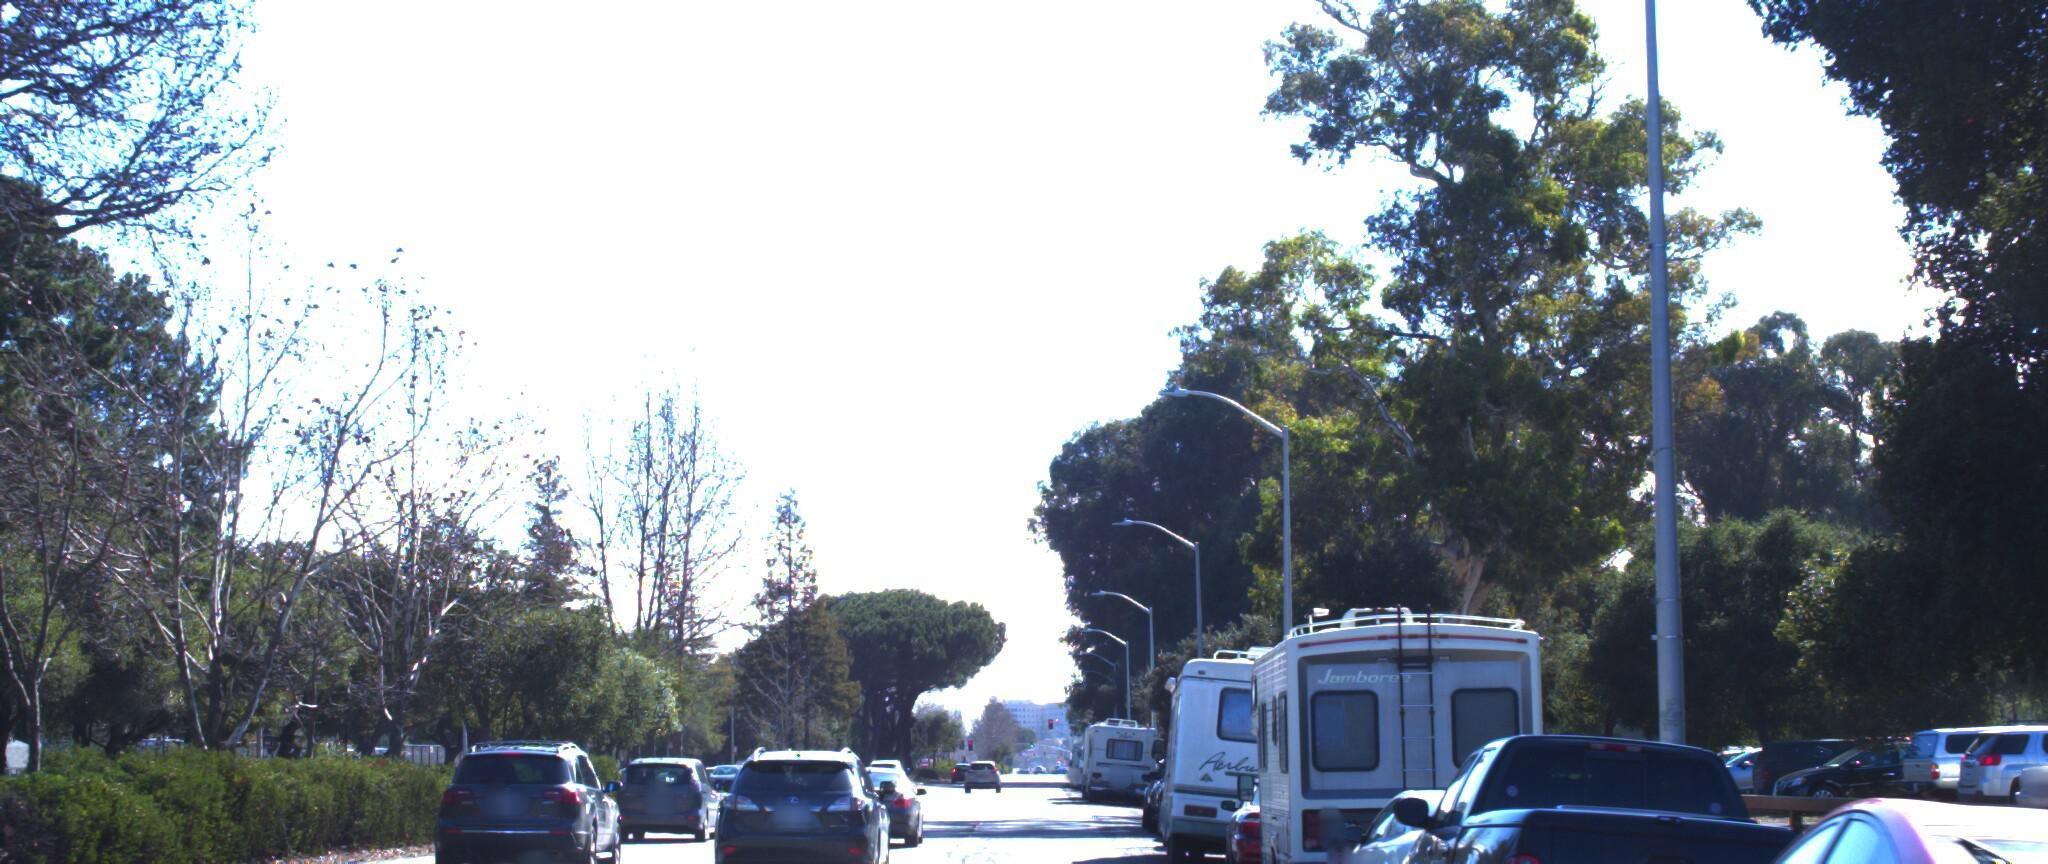car: (1347, 703, 1877, 864), (1595, 760, 2048, 864), (1297, 764, 1599, 864), (436, 722, 626, 864), (705, 728, 897, 864), (1195, 754, 1384, 864), (1741, 720, 1984, 797), (1870, 705, 2048, 804), (1923, 705, 2048, 807), (605, 730, 729, 831), (835, 748, 944, 830), (0, 714, 44, 864), (1977, 722, 2048, 814)
other_vehicle: (1202, 570, 1573, 864), (1139, 626, 1368, 864)
